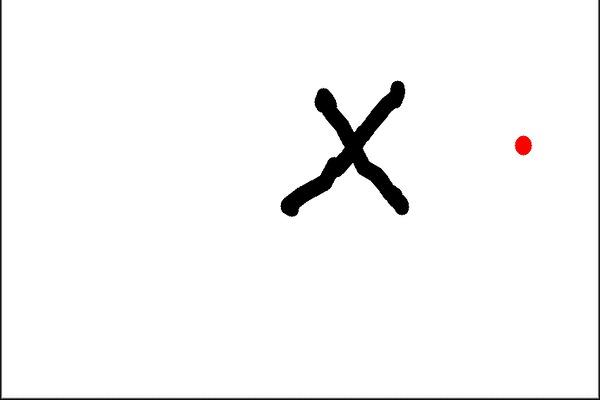Z: (263, 66, 433, 229)
